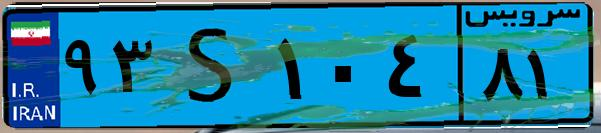0: (330, 28, 385, 110)
1: (270, 28, 330, 110), (525, 38, 570, 115)
3: (110, 28, 158, 98)
4: (385, 28, 445, 110)
8: (475, 38, 525, 113)
9: (57, 26, 110, 100)
S: (158, 12, 270, 120)
